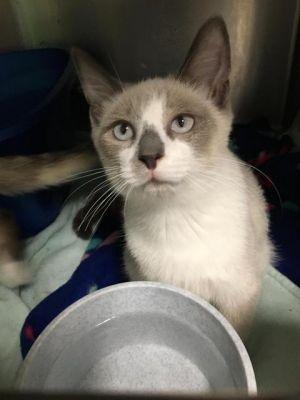siamese: (67, 16, 239, 203)
